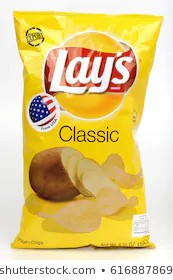lays-med: (10, 8, 168, 252)
